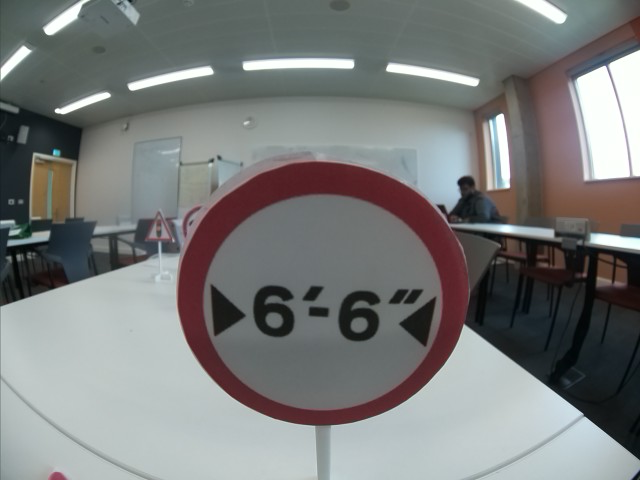6ft6: (178, 159, 470, 427)
Traffic lights: (144, 210, 177, 241)
